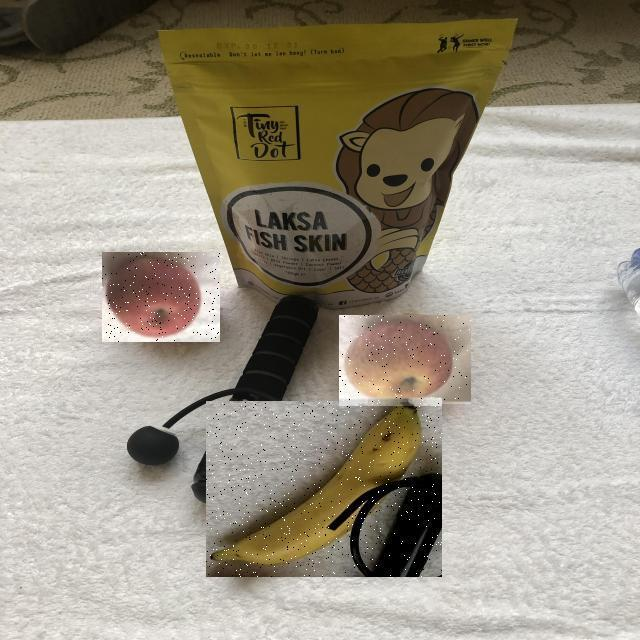Apple: (339, 316, 471, 406), (102, 252, 220, 342)
Banana: (206, 401, 442, 577)
